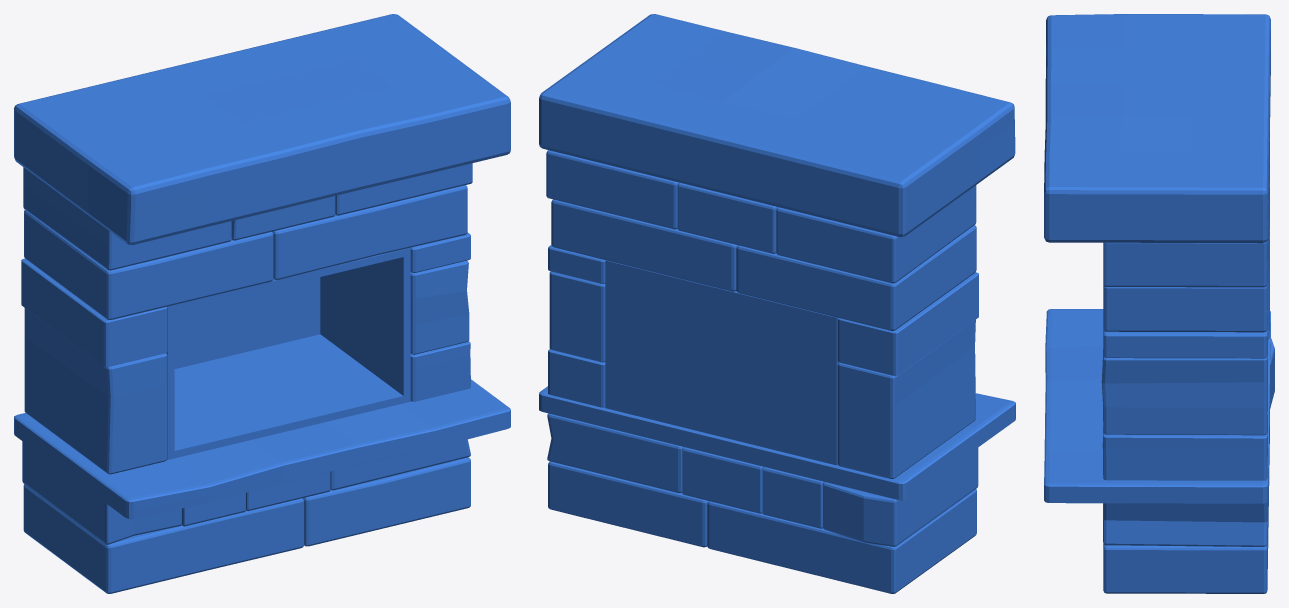
The model's file is Fireplace_2.fbx.
The picture shows the model from 3 angles, left to right: view 1: azimuth 30°, elevation 25°; view 2: azimuth 150°, elevation 25°; view 3: azimuth 270°, elevation 25°; orthographic projection. The views are drawn at different scales.
Visible parts, largest first — view 1: fireplace_2; view 2: fireplace_2; view 3: fireplace_2.
Boxes of the visible parts, left/top/right/bottom form: fireplace_2: left=14, top=14, right=510, bottom=593; fireplace_2: left=539, top=14, right=1015, bottom=593; fireplace_2: left=1044, top=14, right=1274, bottom=593.
Bounding box in the file's own units: 1.26 × 1.36 × 0.6918.
